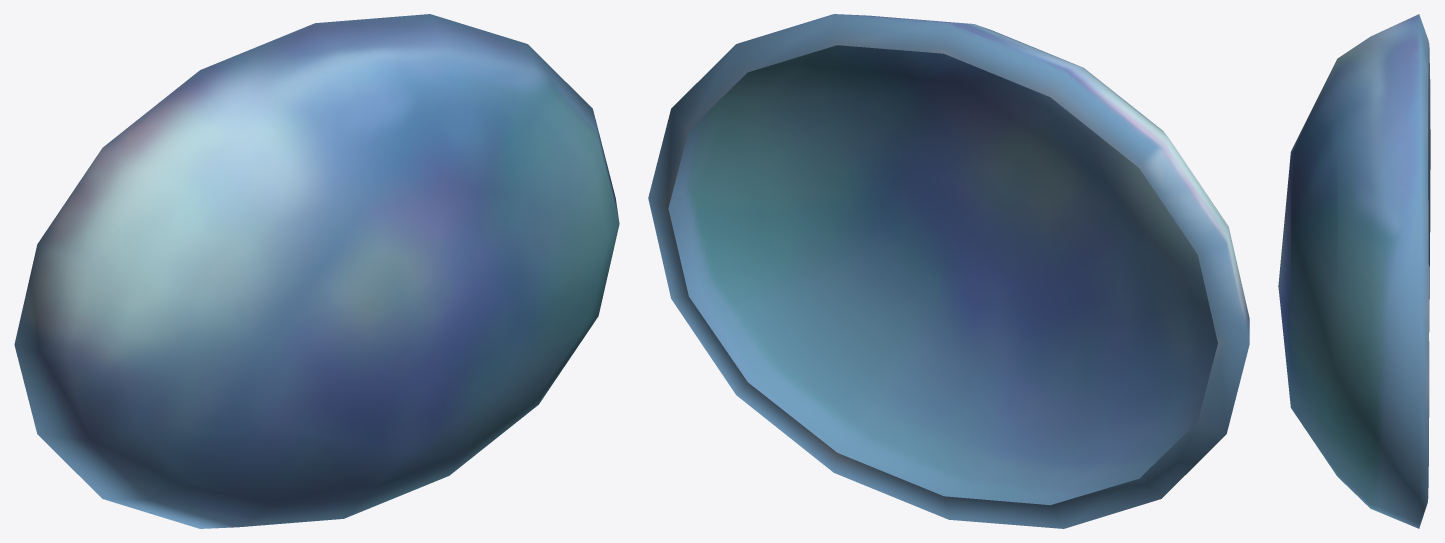
Rendered from submarine_glass.fbx.
3 renders of one model, left to right at view 1: azimuth 30°, elevation 25°; view 2: azimuth 150°, elevation 25°; view 3: azimuth 270°, elevation 25°, orthographic. The views are drawn at different scales.
Visible parts, largest first — view 1: submarine_glass; view 2: submarine_glass; view 3: submarine_glass.
Part boxes in pixels (x1,y1,x2,y2): submarine_glass: (14, 14, 619, 528); submarine_glass: (648, 14, 1249, 528); submarine_glass: (1278, 14, 1430, 528).
Size of the model in its own units: 391 by 309 by 95.16.
